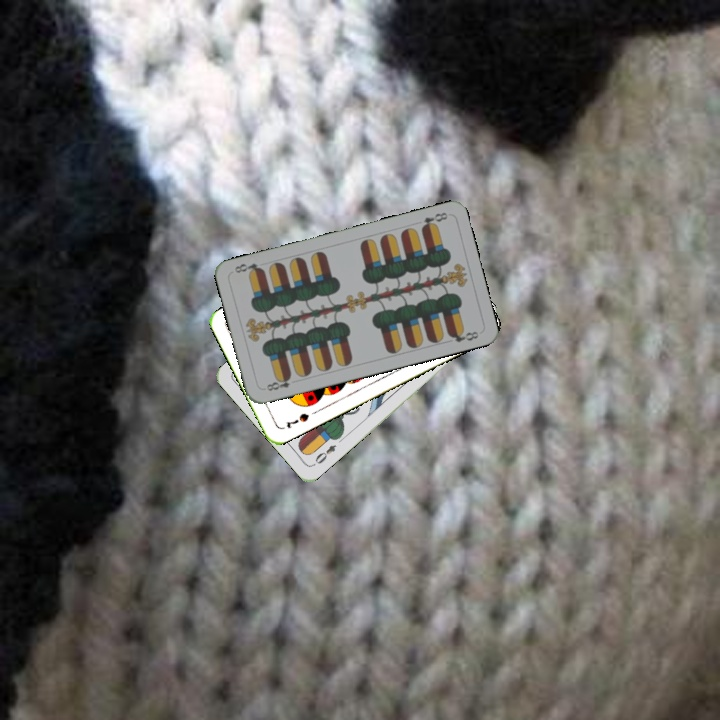E8: (417, 208, 450, 232), (262, 371, 294, 393)
EO: (309, 440, 339, 468)
S7: (282, 409, 312, 431)
